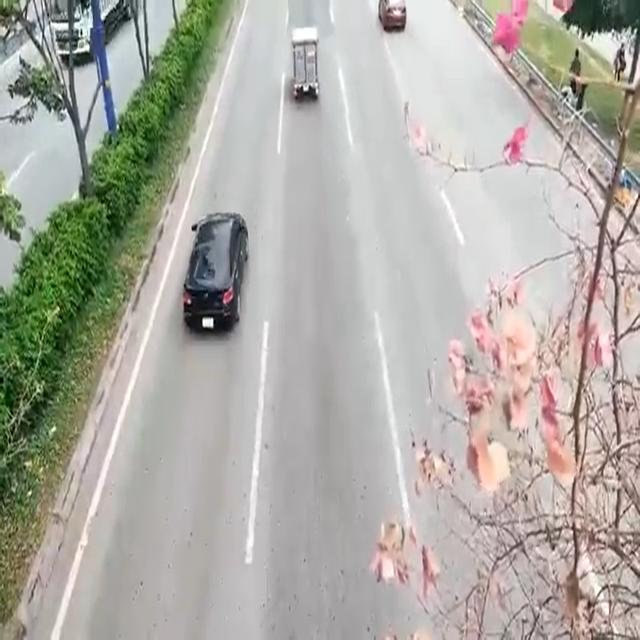car: (187, 212, 232, 327)
truck: (291, 28, 316, 100)
